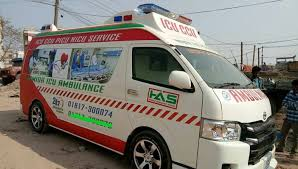ambulance: (19, 2, 280, 169)
